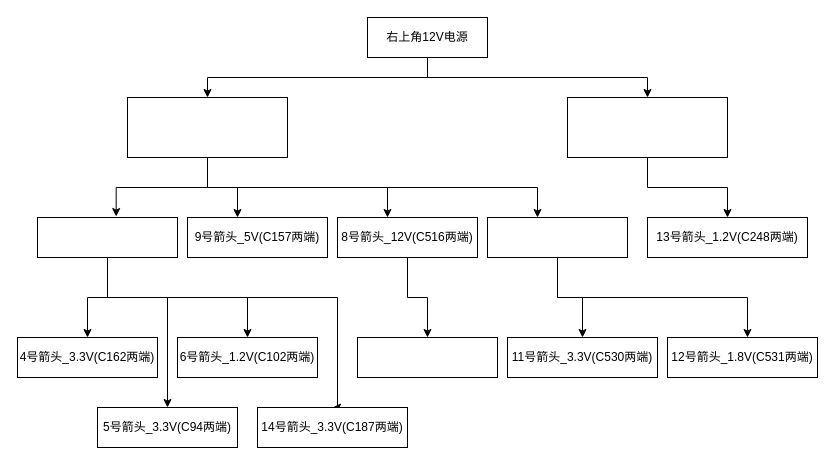
The diagram is 835 pixels wide and 465 high, and some of its shapes have lost their labels. Each missing label, with the box of its shape:
10号箭头_5V(C527两端): (486, 216, 628, 258)
1号箭头_5V(C20两端) 受核心板控制启动 短接R19两端可启动: (126, 96, 288, 158)
2号箭头_3.3V(C10两端) 上电直接启动: (566, 96, 728, 158)
3号箭头_5V(C83两端): (36, 216, 178, 258)
7号箭头_3.3V(C4两端): (356, 336, 498, 378)
